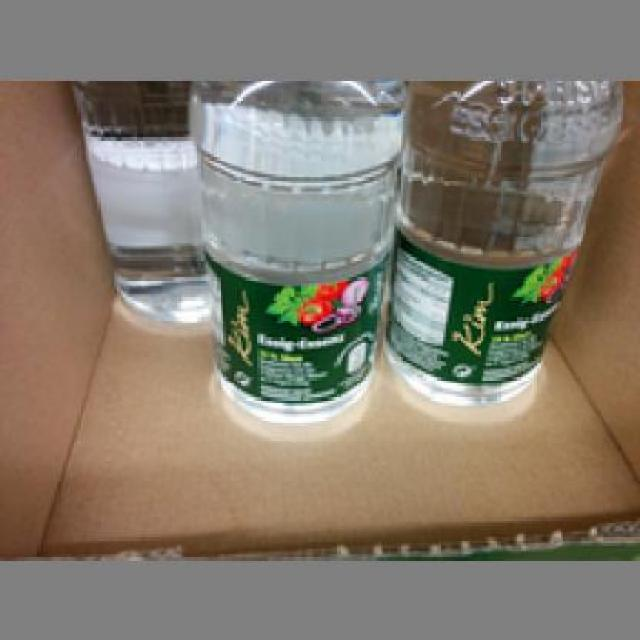Vinegar: (186, 77, 412, 434), (383, 77, 617, 400)
